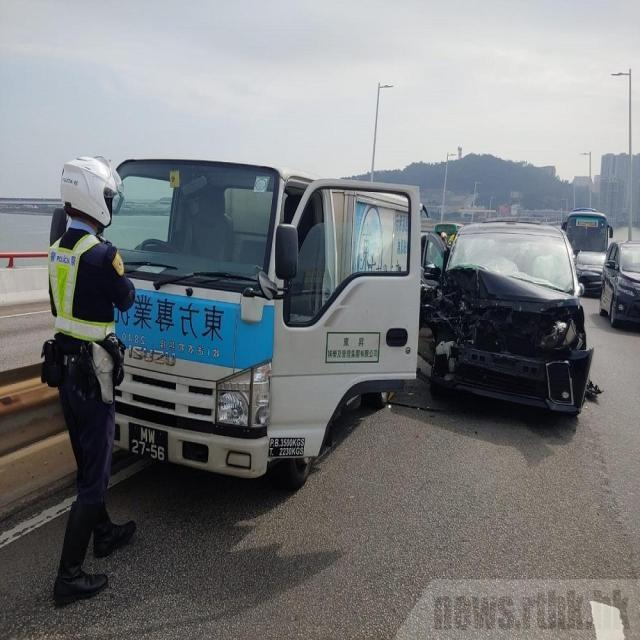accident: (377, 198, 614, 453)
